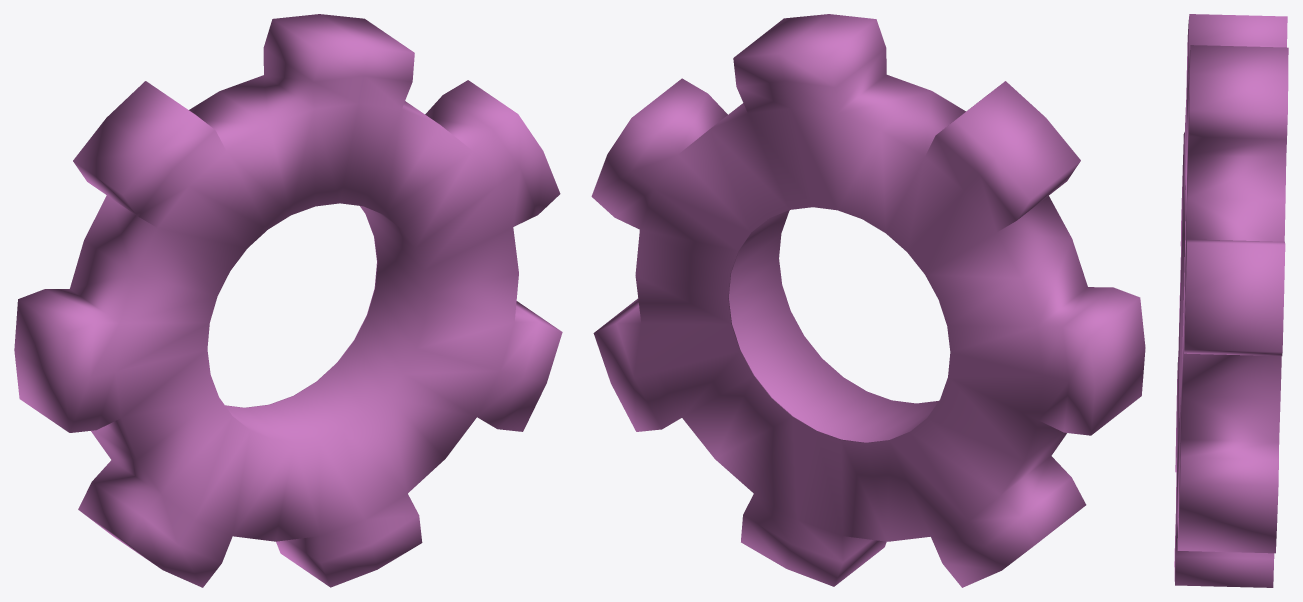
Rendered from gear.glb.
3 views of the same model, side by side, from view 1: azimuth 30°, elevation 25°; view 2: azimuth 150°, elevation 25°; view 3: azimuth 270°, elevation 25° (orthographic). The views are drawn at different scales.
Visible parts, largest first — view 1: Gear.003; view 2: Gear.003; view 3: Gear.003.
Part boxes in pixels (x1,y1,x2,y2): Gear.003: (14,14,562,587); Gear.003: (591,14,1145,587); Gear.003: (1174,14,1288,587).
Size of the model in its own units: 0.3763 by 0.3842 by 0.0763.
